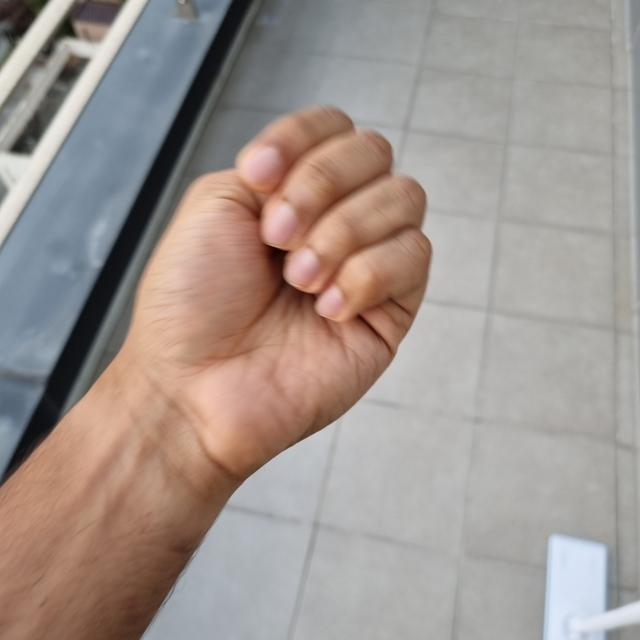Rock: (106, 104, 431, 473)
